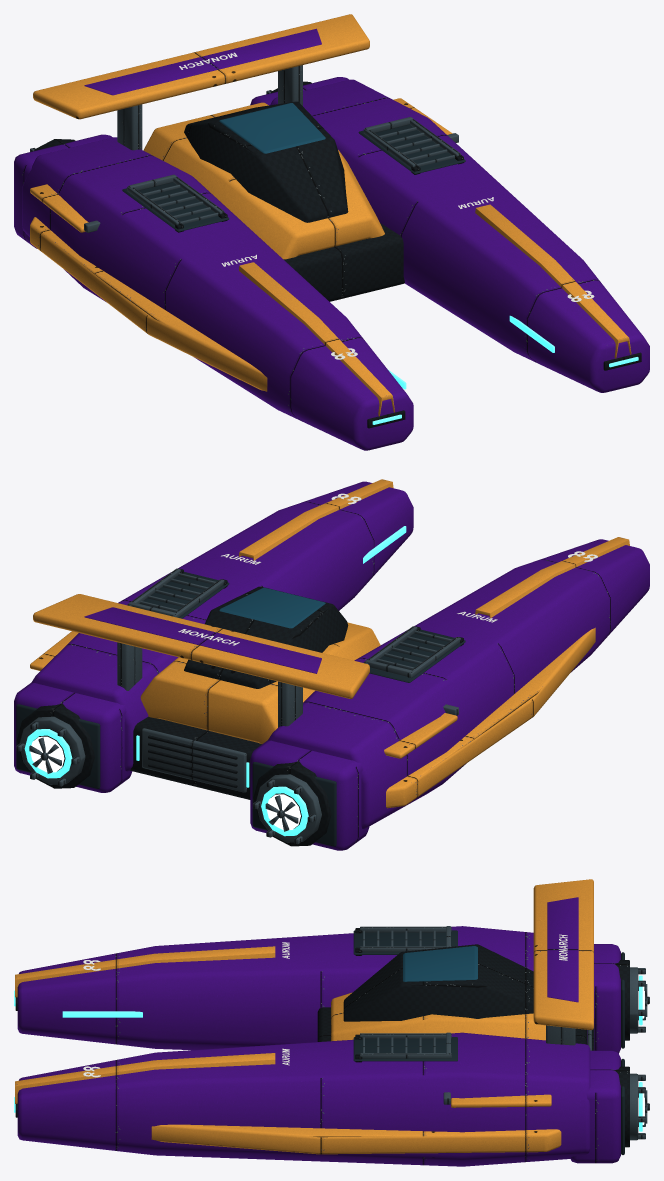
Rendered from monarch-player.glb.
3 renders of one model, top to bottom at view 1: azimuth 30°, elevation 25°; view 2: azimuth 150°, elevation 25°; view 3: azimuth 270°, elevation 25°, orthographic. The views are drawn at different scales.
Visible parts, largest first — view 1: Surface Royal violet, Surface Champagne gold, Surface Carbon composite, Surface Intake shadow, Surface Polarised canopy, Surface Brushed titanium, Mechanism cooling_positive_x.001 Brushed titanium, Mechanism cooling_negative_x.001 Brushed titanium, Mechanism airbrake_negative_x.001 Champagne gold, Surface Ion cyan, Surface Ivory graphics; view 2: Surface Royal violet, Surface Champagne gold, Surface Carbon composite, Surface Brushed titanium, Surface Intake shadow, Surface Polarised canopy, Surface Ion cyan, Mechanism cooling_negative_x.001 Brushed titanium, Mechanism cooling_positive_x.001 Brushed titanium, Surface Reactor white, Mechanism airbrake_negative_x.001 Champagne gold, Surface Ivory graphics (+1 smaller); view 3: Surface Royal violet, Surface Champagne gold, Surface Carbon composite, Surface Intake shadow, Surface Polarised canopy, Surface Brushed titanium, Mechanism cooling_positive_x.001 Brushed titanium, Mechanism cooling_negative_x.001 Brushed titanium, Mechanism airbrake_positive_x.001 Champagne gold, Surface Ion cyan, Surface Ivory graphics.
Part boxes in pixels (box(x1,y1,x2,y2)): Surface Royal violet: box(14, 28, 649, 450); Surface Champagne gold: box(30, 14, 631, 416); Surface Carbon composite: box(34, 81, 641, 428); Surface Intake shadow: box(122, 124, 465, 231); Surface Polarised canopy: box(219, 103, 325, 153); Surface Brushed titanium: box(30, 65, 458, 232); Mechanism cooling_positive_x.001 Brushed titanium: box(363, 117, 460, 167); Mechanism cooling_negative_x.001 Brushed titanium: box(127, 174, 224, 225); Mechanism airbrake_negative_x.001 Champagne gold: box(30, 184, 88, 232); Surface Ion cyan: box(372, 315, 638, 424); Surface Ivory graphics: box(179, 52, 594, 359); Surface Royal violet: box(14, 481, 649, 850); Surface Champagne gold: box(33, 479, 629, 808); Surface Carbon composite: box(17, 568, 463, 846); Surface Brushed titanium: box(16, 642, 458, 844); Surface Intake shadow: box(16, 572, 465, 846); Surface Polarised canopy: box(219, 587, 325, 628); Surface Ion cyan: box(24, 526, 406, 836); Mechanism cooling_negative_x.001 Brushed titanium: box(363, 626, 460, 677); Mechanism cooling_positive_x.001 Brushed titanium: box(127, 568, 224, 617); Surface Reactor white: box(30, 736, 300, 829); Mechanism airbrake_negative_x.001 Champagne gold: box(384, 713, 457, 758); Surface Ivory graphics: box(178, 493, 597, 645); Surface Royal violet: box(17, 897, 620, 1166); Surface Champagne gold: box(15, 879, 593, 1154); Surface Carbon composite: box(15, 928, 629, 1147); Surface Intake shadow: box(353, 930, 624, 1154); Surface Polarised canopy: box(403, 946, 477, 981); Surface Brushed titanium: box(443, 967, 645, 1140); Mechanism cooling_positive_x.001 Brushed titanium: box(360, 1032, 451, 1058); Mechanism cooling_negative_x.001 Brushed titanium: box(360, 926, 451, 952); Mechanism airbrake_positive_x.001 Champagne gold: box(451, 1094, 551, 1107); Surface Ion cyan: box(14, 975, 642, 1131); Surface Ivory graphics: box(83, 934, 567, 1077).
Size of the model in its own units: 4.58 by 1.84 by 7.06.
Materials: 9 (4 with a texture image).
